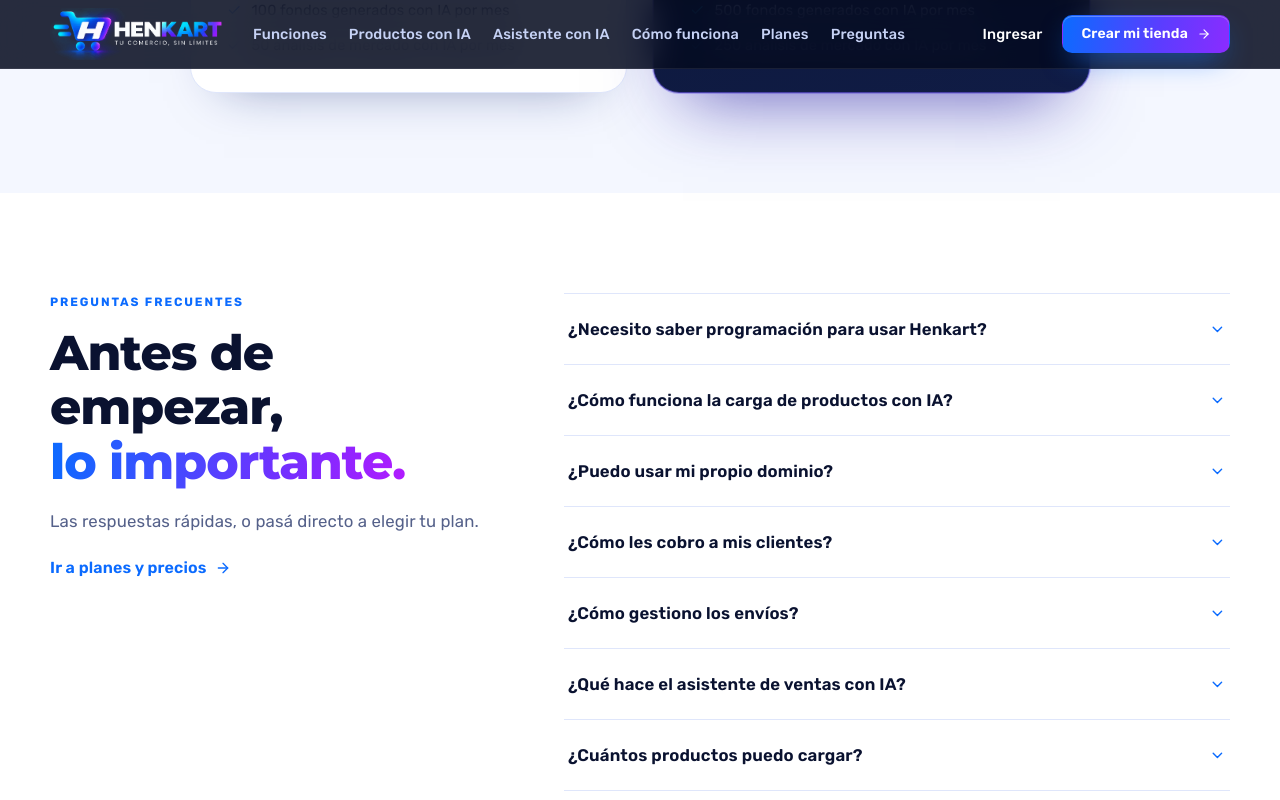
Test case: PlatformLanding · carga de productos con IA › la pregunta frecuente coincide con la sección: borrador y cupos por plan
This screenshot has width=1280, height=800.
(page scrolled)
Click the heading "¿Cómo funciona la carga de productos con IA?" at (897, 400), box [568,390,1226,410]
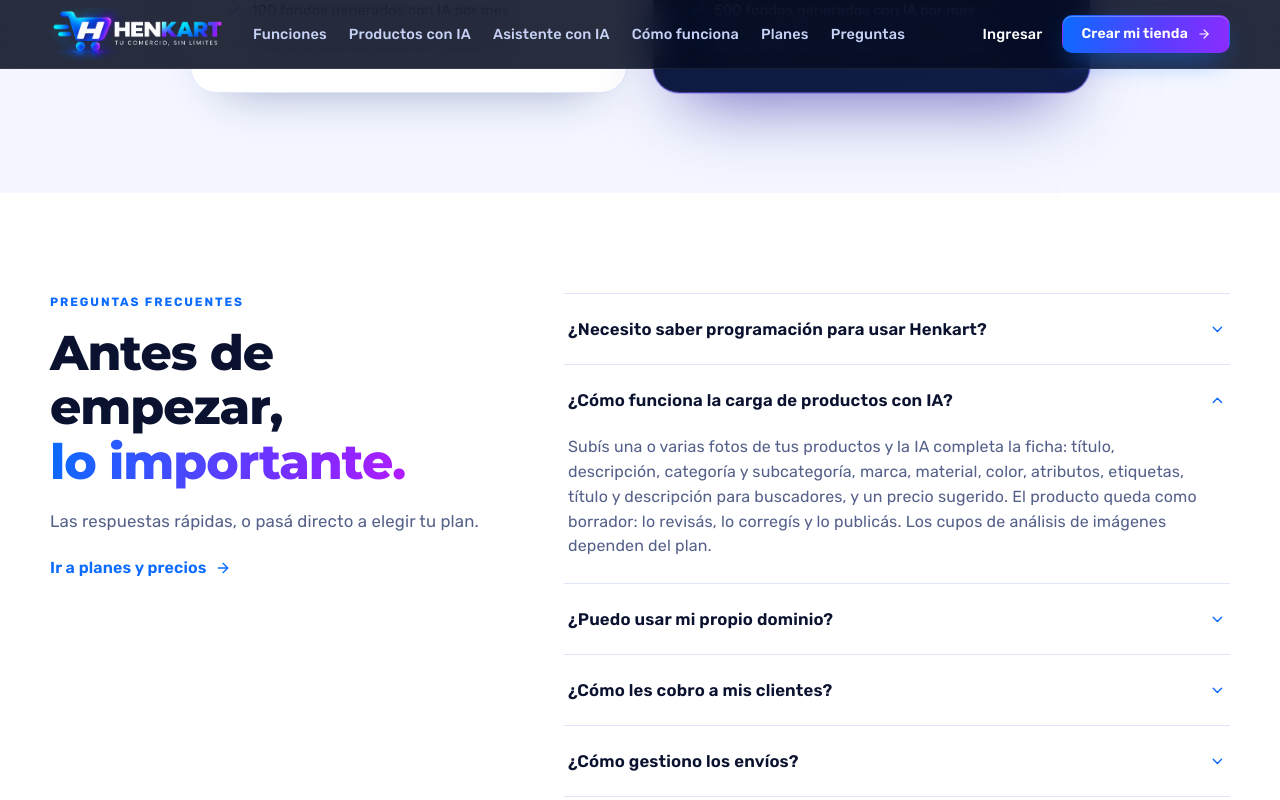
Check: the text "cupos de análisis de imágenes dependen del plan" is shown, box [568,437,1197,555]
